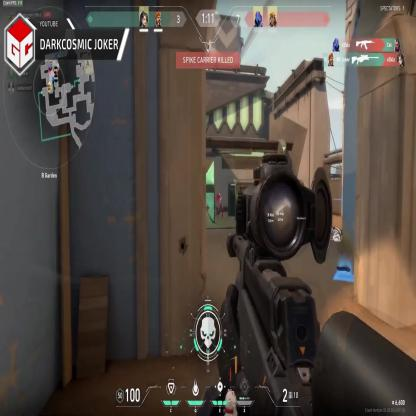enemy: (216, 191, 224, 220)
enemy_head: (218, 193, 221, 198)
